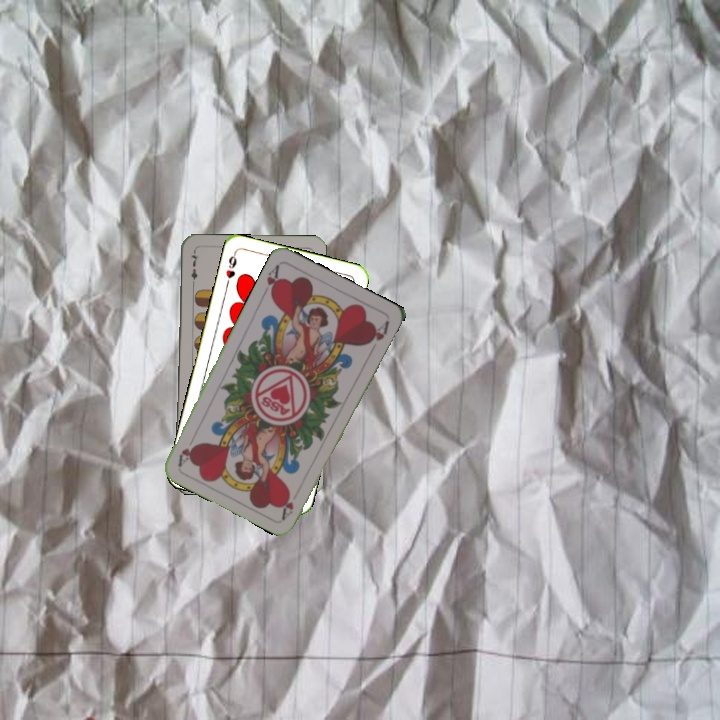E7: (187, 249, 201, 289)
H9: (222, 249, 239, 289)
HA: (259, 261, 283, 299), (278, 490, 296, 521)
